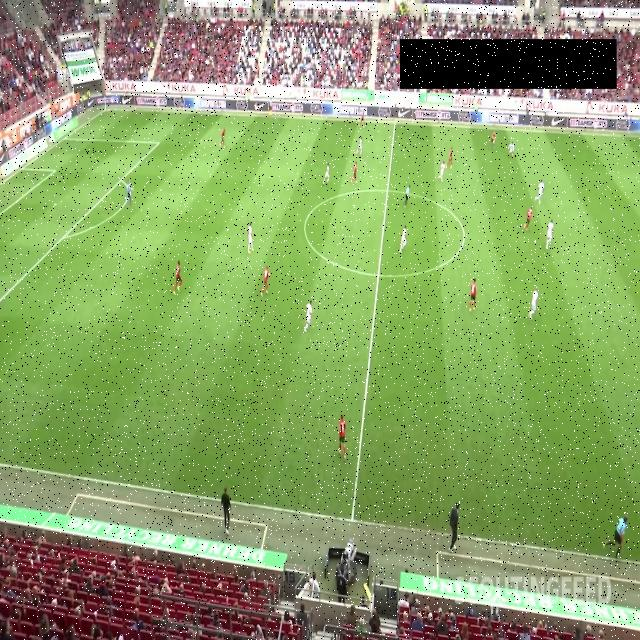GoalKeeper: (126, 180, 132, 206)
Referee: (603, 513, 628, 559), (403, 184, 411, 209), (268, 97, 274, 117)
TEAM 1: (338, 415, 347, 463), (174, 258, 182, 296), (523, 207, 534, 232), (261, 265, 269, 297), (350, 160, 358, 186), (470, 277, 476, 311), (446, 147, 454, 171), (219, 126, 226, 149), (489, 130, 497, 150), (359, 110, 365, 130)
TEAM 2: (528, 287, 538, 321), (304, 299, 314, 331), (535, 177, 545, 205), (545, 220, 554, 250), (400, 224, 408, 252), (247, 222, 254, 253), (438, 160, 447, 183), (322, 163, 330, 186), (356, 136, 362, 156), (508, 142, 514, 158)
